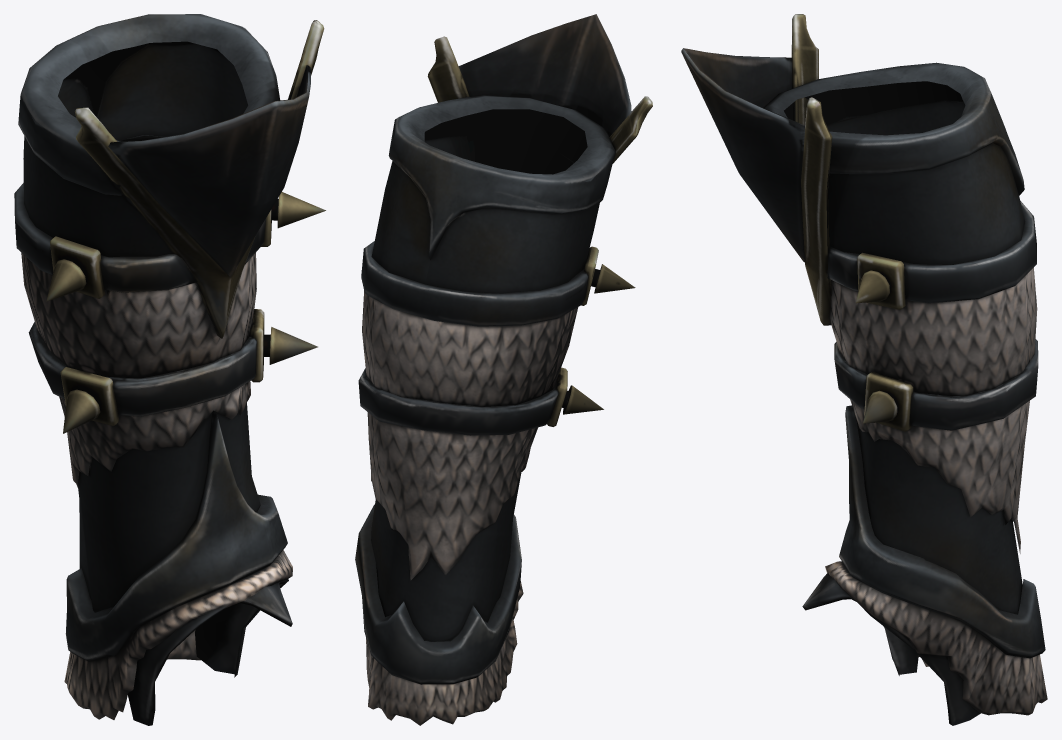
Rendered from sm_armor_human_void_foot_up_l.gltf.
The picture shows the model from 3 angles, left to right: view 1: azimuth 30°, elevation 25°; view 2: azimuth 150°, elevation 25°; view 3: azimuth 270°, elevation 25°; orthographic projection. The views are drawn at different scales.
Parts seen in each view (by area): view 1: sm_armor_human_void_foot_up_l; view 2: sm_armor_human_void_foot_up_l; view 3: sm_armor_human_void_foot_up_l.
Boxes of the visible parts, <box> form: sm_armor_human_void_foot_up_l: <box>14,14,325,725</box>; sm_armor_human_void_foot_up_l: <box>355,14,652,725</box>; sm_armor_human_void_foot_up_l: <box>681,14,1047,725</box>.
Size of the model in its own units: 0.2407 by 0.5775 by 0.3017.
1 material, 1 textured.
